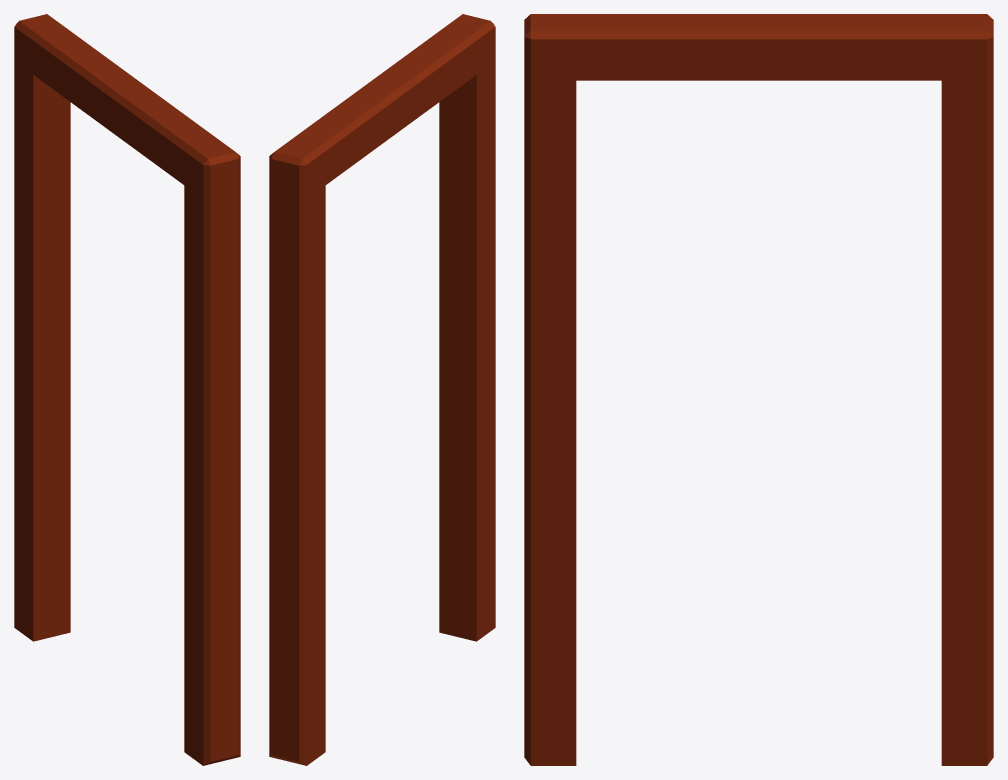
File: Door frame.fbx
3 renders of one model, left to right at view 1: azimuth 30°, elevation 25°; view 2: azimuth 150°, elevation 25°; view 3: azimuth 270°, elevation 25°, orthographic. The views are drawn at different scales.
Parts seen in each view (by area): view 1: Cube.017; view 2: Cube.017; view 3: Cube.017.
Part boxes in pixels (left/top/right/bottom): Cube.017: left=14, top=14, right=240, bottom=765; Cube.017: left=269, top=14, right=495, bottom=765; Cube.017: left=524, top=14, right=993, bottom=765.
Bounding box in the file's own units: 167 × 287 × 18.51.
